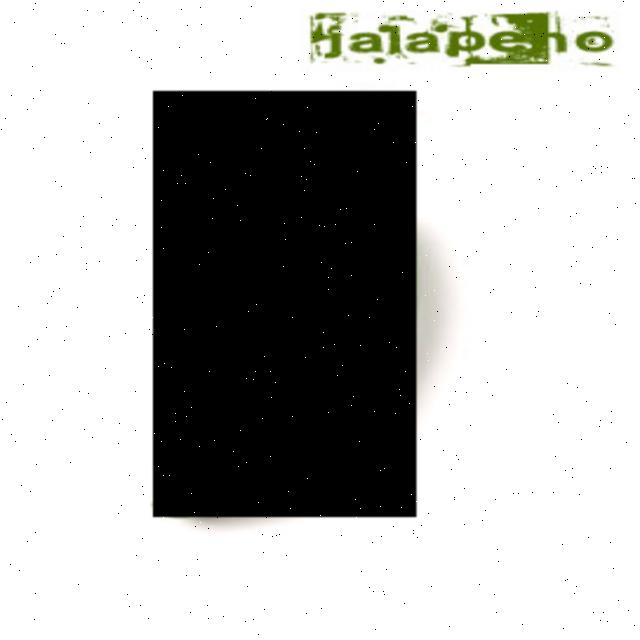Chili_Pepper: (153, 91, 416, 517)
